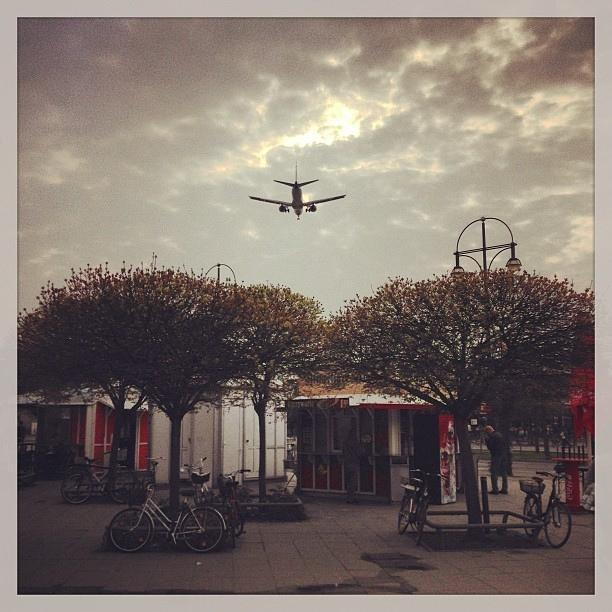bicycle: (110, 478, 225, 555), (523, 471, 578, 546), (60, 451, 140, 502), (396, 469, 448, 546), (222, 468, 252, 548), (185, 456, 210, 504)
